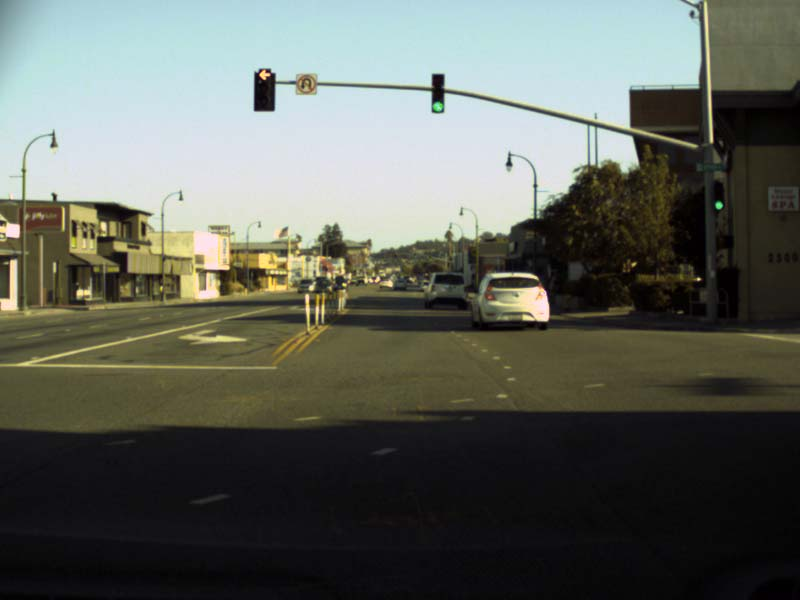Green: (430, 72, 444, 113), (713, 183, 723, 210)
Red: (257, 68, 271, 108)
